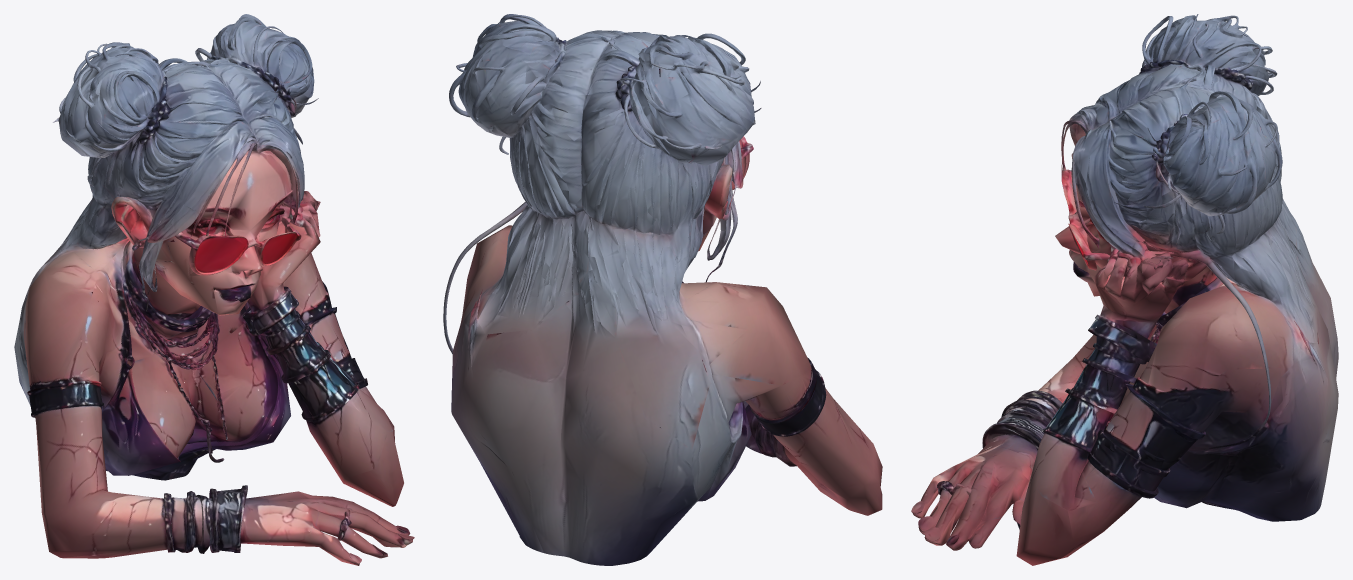
3 views of the same model, side by side, from view 1: azimuth 30°, elevation 25°; view 2: azimuth 150°, elevation 25°; view 3: azimuth 270°, elevation 25° (orthographic). The views are drawn at different scales.
Parts seen in each view (by area): view 1: model; view 2: model; view 3: model.
Boxes of the visible parts, bbox=[...] form: model: bbox=[14, 14, 414, 565]; model: bbox=[443, 14, 882, 565]; model: bbox=[911, 14, 1338, 565].
Bounding box in the file's own units: 1.52 × 1.89 × 1.62.
1 material, 1 textured.
